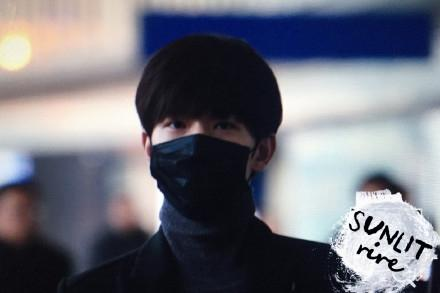,mask: (139, 131, 270, 217)
